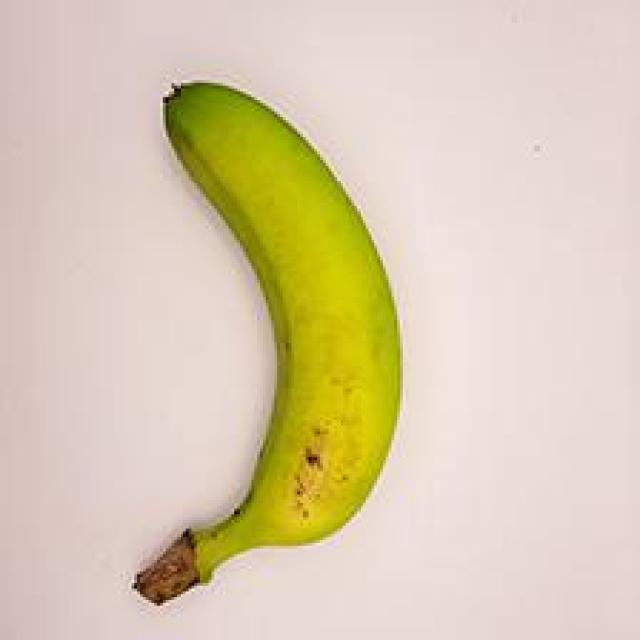Unripe: (51, 34, 453, 619)
